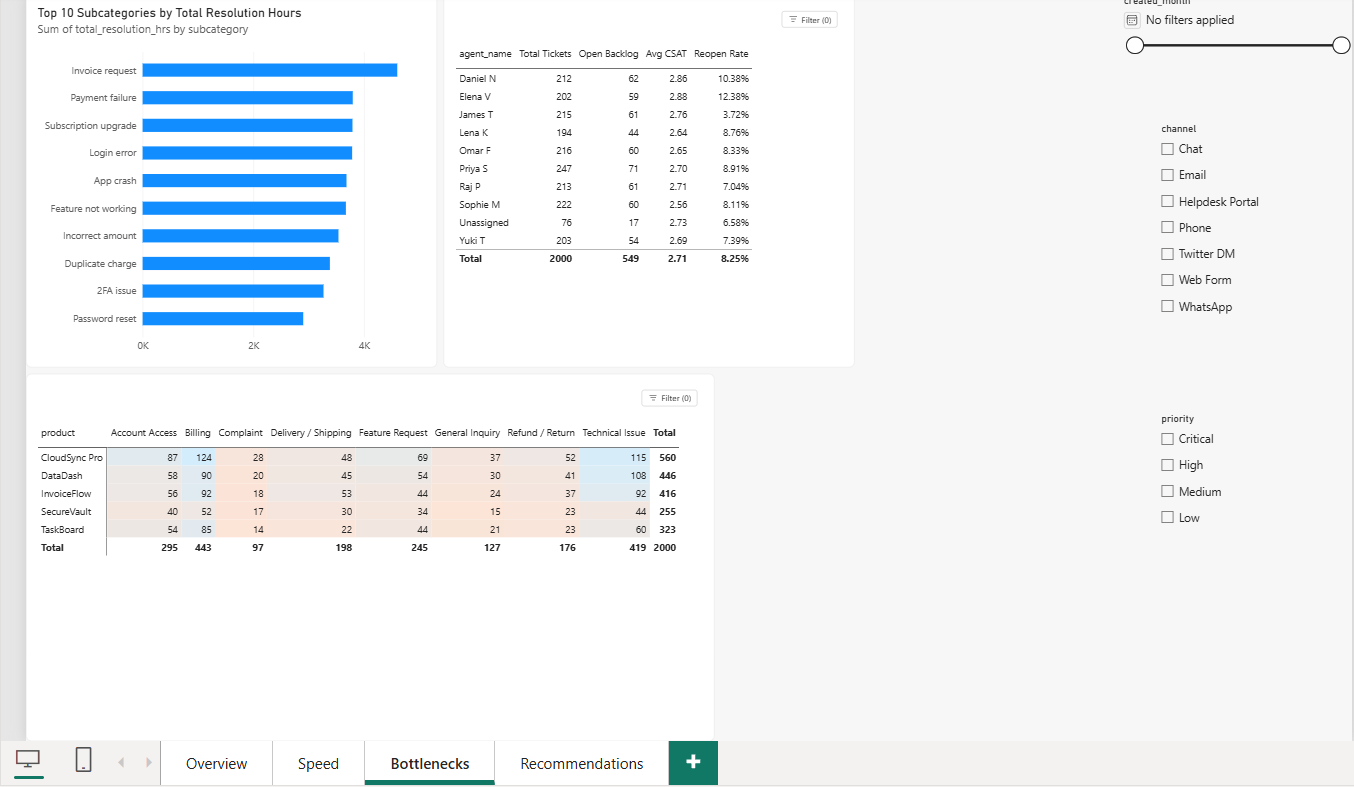

What the dashboard file says about the page in this screenshot:
{"tool":"powerbi","page":{"name":"Bottlenecks","canvas":[1920,1080],"ordinal":2},"visuals":[{"type":"barChart","title":"Top 10 Subcategories by Total Resolution Hours","fields":{"Category":["public v_bottleneck_subcategories.subcategory"],"Y":["Sum(public v_bottleneck_subcategories.total_resolution_hrs)"]},"box":[0,0,594.9,539.3],"z":0},{"type":"pivotTable","fields":{"Columns":["tickets.category"],"Rows":["tickets.product"],"Values":["tickets.Total Tickets"]},"box":[0,548.3,997.1,532],"z":1000},{"type":"tableEx","fields":{"Values":["tickets.agent_name","tickets.Total Tickets","tickets.Open Backlog","tickets.Avg CSAT","tickets.Reopen Rate"]},"box":[605,0,595,539],"z":2000},{"type":"slicer","fields":{"Values":["tickets.created_month"]},"box":[1581.6,0,338.4,184.6],"z":2001},{"type":"slicer","fields":{"Values":["tickets.channel"]},"box":[1635.9,184.6,284.1,419.8],"z":2002},{"type":"slicer","fields":{"Values":["tickets.priority"]},"box":[1635.9,604.4,284.1,419.8],"z":2003}]}

Visuals, with their boxes on the page's 1920x1080 design canvas (x1, y1, x2, y2). These are canvas units, not pixel positions in the 1354x787 screenshot, which may show the page scaled, cropped or inside an application window:
"Top 10 Subcategories by Total Resolution Hours" barChart: x1=0, y1=0, x2=595, y2=539
pivotTable - tickets.category x tickets.product: x1=0, y1=548, x2=997, y2=1080
tableEx - tickets.agent_name x tickets.Total Tickets: x1=605, y1=0, x2=1200, y2=539
slicer - tickets.created_month: x1=1582, y1=0, x2=1920, y2=185
slicer - tickets.channel: x1=1636, y1=185, x2=1920, y2=604
slicer - tickets.priority: x1=1636, y1=604, x2=1920, y2=1024
